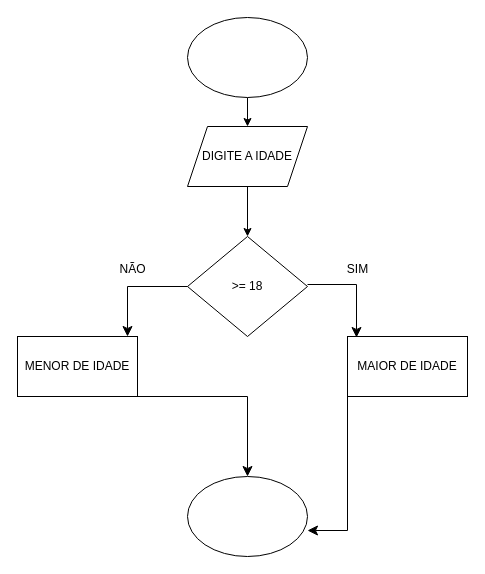
Some shapes in this 485 by 574 pixel diagram are drawn without their labels. The centre of each missing label's shape, as x and y in pixels:
"FIM" goes at (x=247, y=516).
"INÍCIO" goes at (x=247, y=57).
